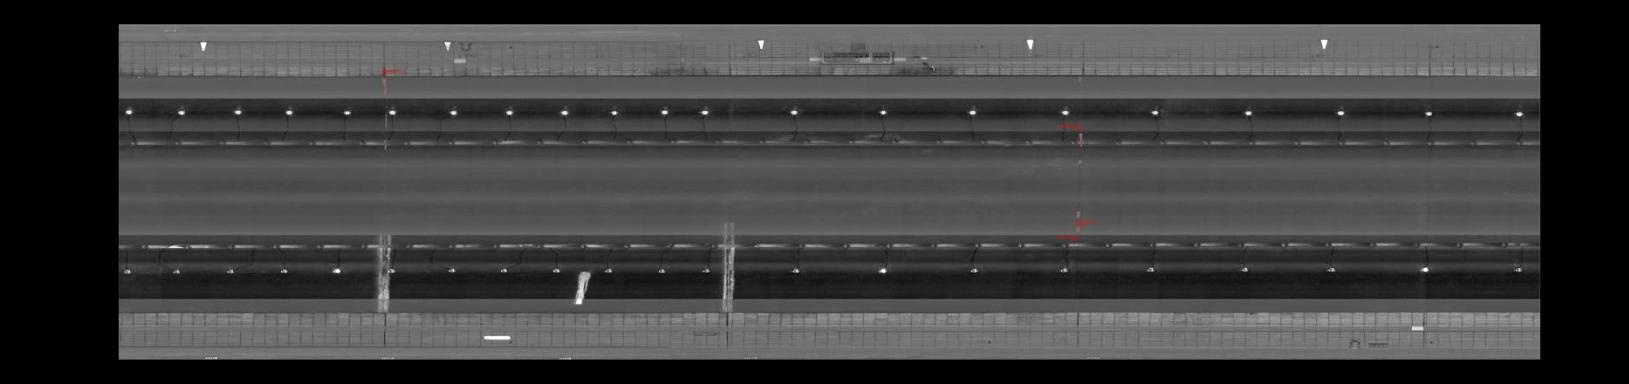light: (783, 106, 806, 118), (873, 263, 893, 276), (1508, 262, 1527, 275), (1321, 263, 1340, 276), (873, 105, 891, 118), (1140, 263, 1159, 275), (1054, 106, 1074, 118), (495, 264, 513, 276), (122, 264, 136, 279), (965, 264, 983, 276), (1417, 262, 1433, 275), (1146, 106, 1163, 118), (1240, 107, 1257, 119), (963, 106, 980, 118), (173, 105, 190, 117), (1235, 263, 1253, 274), (445, 106, 462, 117), (556, 106, 573, 117), (168, 263, 183, 276), (229, 106, 247, 116), (281, 106, 297, 117), (1511, 109, 1528, 119), (1331, 108, 1348, 118), (1054, 266, 1072, 276), (787, 266, 805, 276), (607, 106, 622, 117), (122, 106, 137, 117), (1420, 109, 1439, 118), (696, 106, 713, 116), (329, 264, 344, 275), (385, 105, 400, 116), (655, 266, 670, 276), (657, 107, 672, 117), (275, 265, 291, 275), (502, 107, 517, 117), (548, 266, 564, 275), (600, 265, 614, 276), (445, 266, 459, 276), (339, 107, 353, 117), (699, 266, 713, 276), (223, 266, 237, 276), (386, 266, 399, 275)
